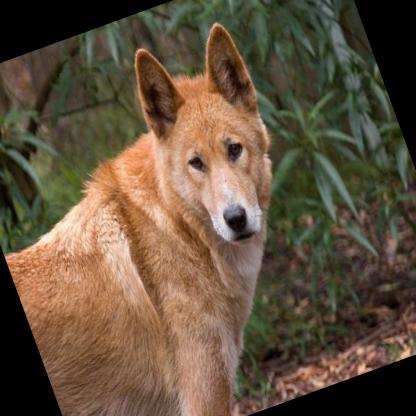dingo: (0, 11, 358, 416)
